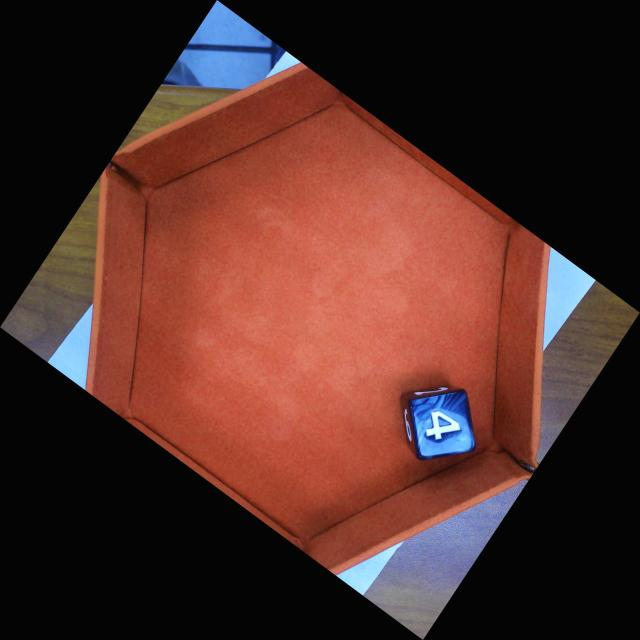dice: (412, 389, 477, 459)
